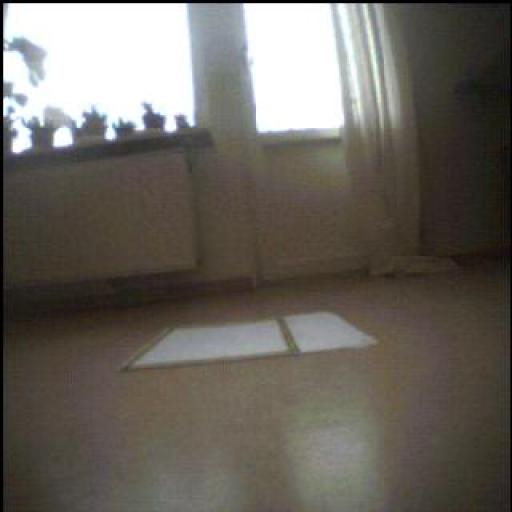Pad: (123, 310, 378, 372)
